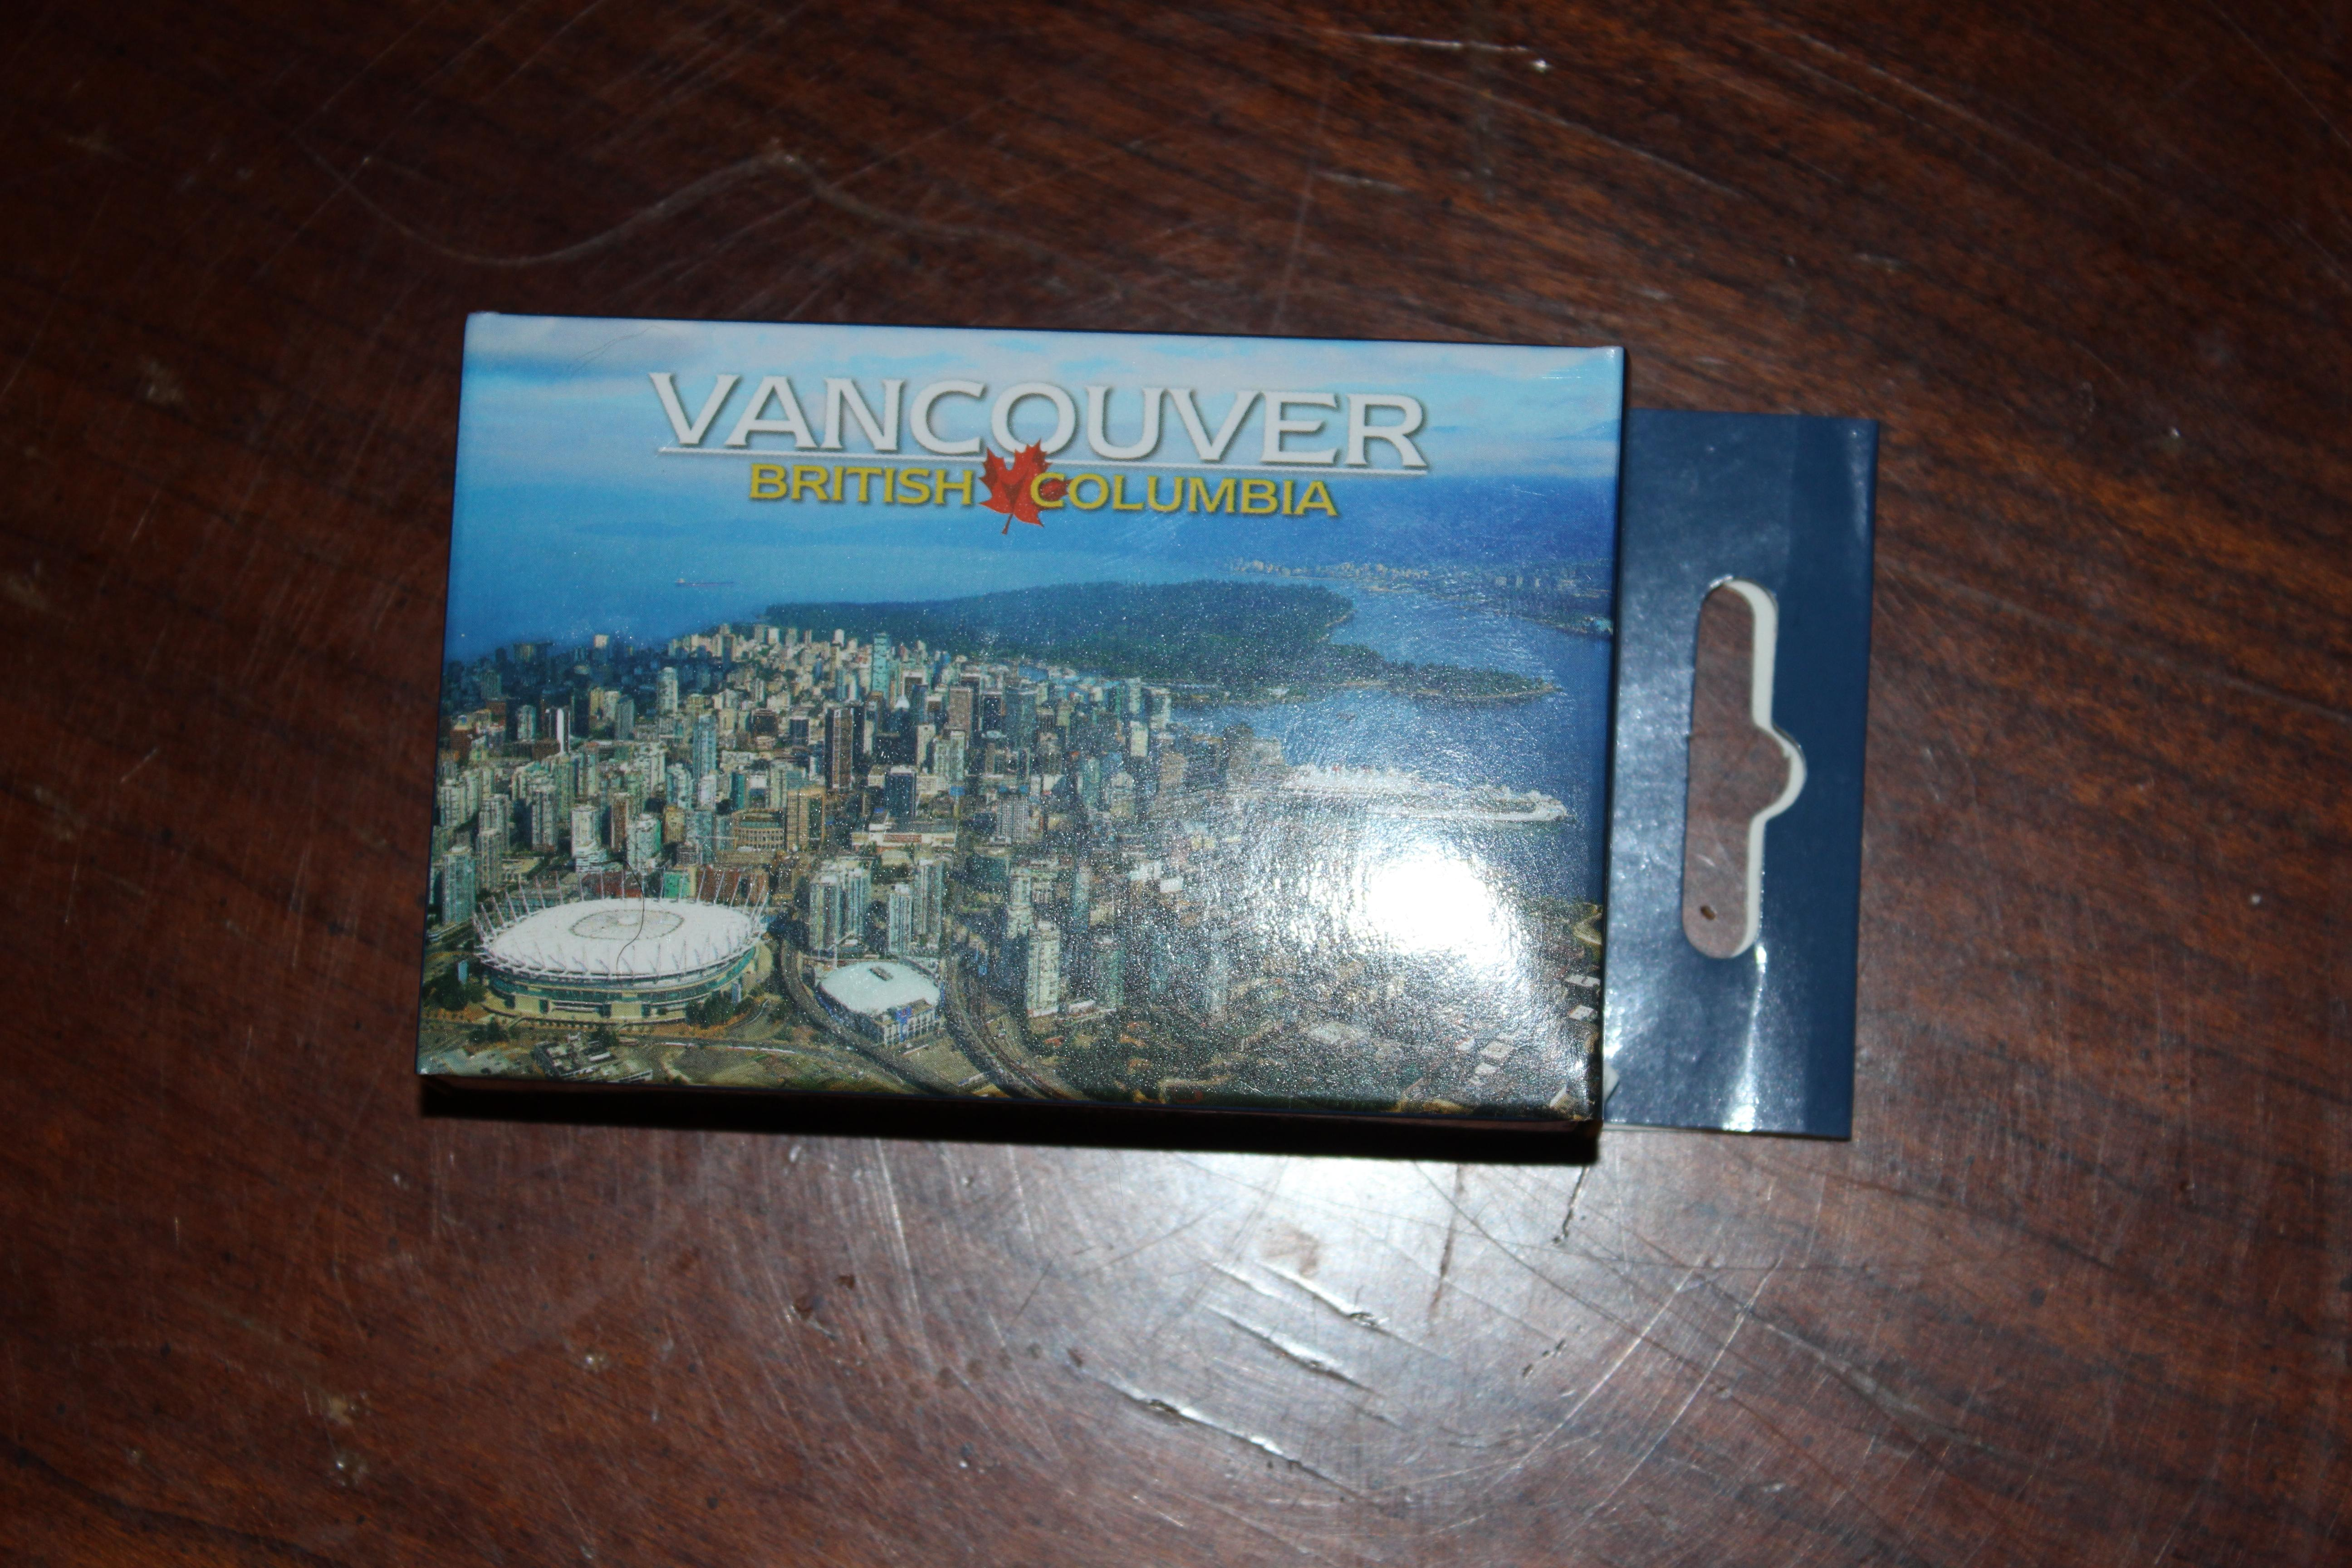vancouverCards: (350, 261, 1918, 1195)
